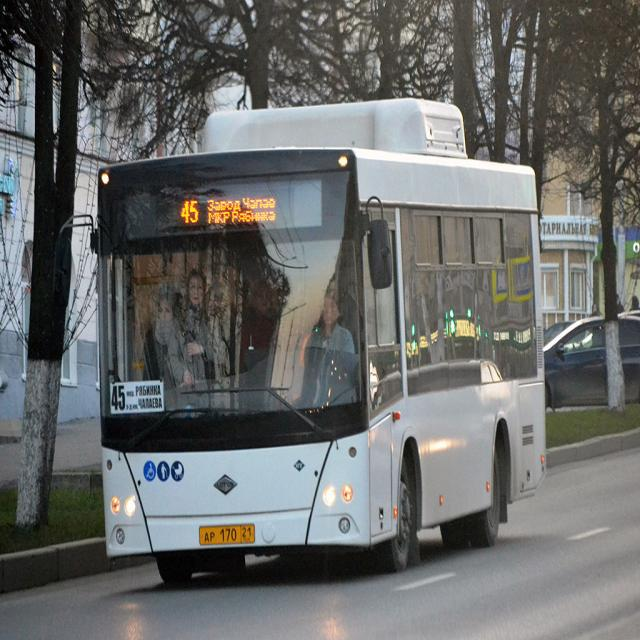number-of-bus: (177, 191, 206, 233), (111, 383, 129, 419)
